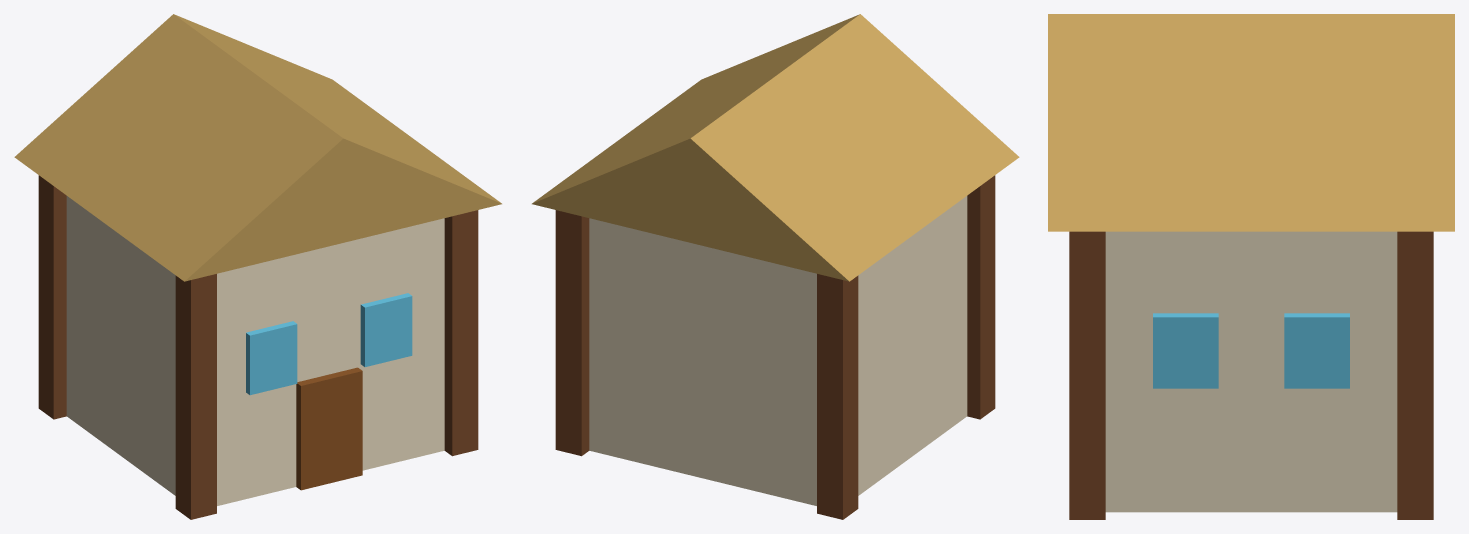
The model's file is hut.glb.
The picture shows the model from 3 angles, left to right: view 1: azimuth 30°, elevation 25°; view 2: azimuth 150°, elevation 25°; view 3: azimuth 270°, elevation 25°; orthographic projection. The views are drawn at different scales.
Visible parts, largest first — view 1: beams; view 2: beams; view 3: beams.
Part boxes in pixels (box(x1,y1,x2,y2)): beams: box(14, 14, 501, 519); beams: box(532, 14, 1019, 519); beams: box(1048, 14, 1454, 519).
Size of the model in its own units: 1.34 by 1.42 by 1.24.
